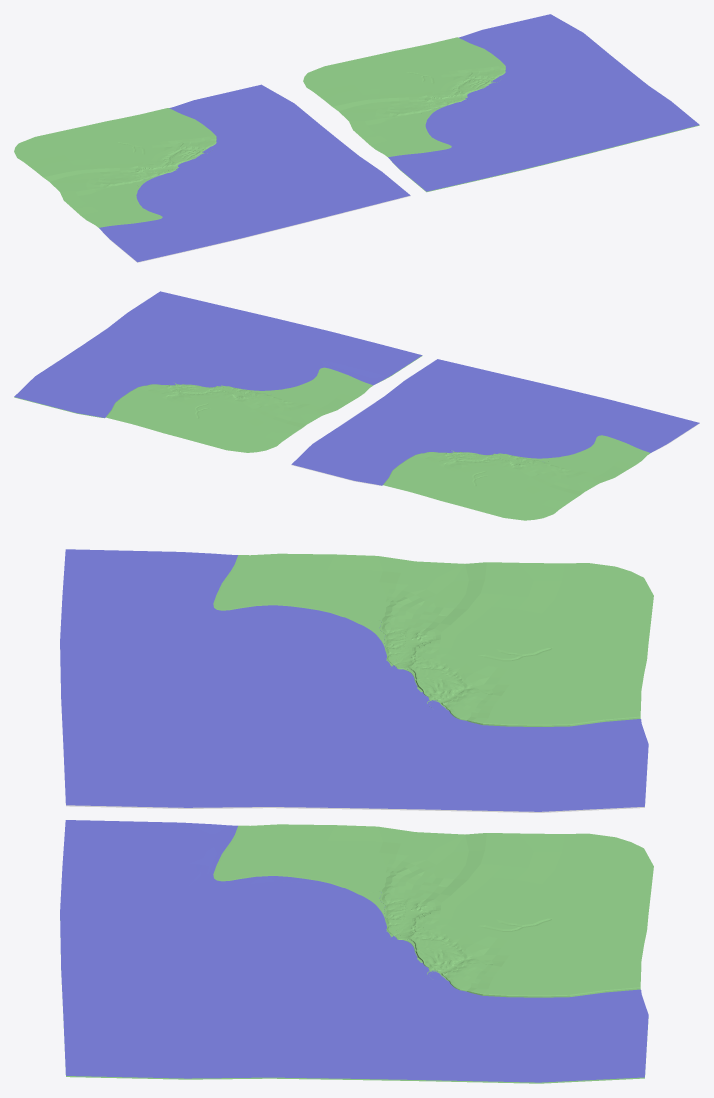
File: Dover.fbx
The picture shows the model from 3 angles, top to bottom: view 1: azimuth 30°, elevation 25°; view 2: azimuth 150°, elevation 25°; view 3: azimuth 270°, elevation 25°; orthographic projection. The views are drawn at different scales.
Parts seen in each view (by area): view 1: Dover old, Dover Water, Dover; view 2: Dover old, Dover Water, Dover; view 3: Dover old, Dover Water, Dover, Dover Under Water.
Boxes of the visible parts, box(x1,y1,x2,y2) form: Dover old: box(303, 14, 699, 192); Dover Water: box(99, 84, 410, 262); Dover: box(14, 108, 216, 227); Dover old: box(14, 291, 422, 452); Dover Water: box(291, 359, 699, 485); Dover: box(383, 435, 650, 520); Dover old: box(60, 820, 653, 1083); Dover Water: box(60, 549, 648, 811); Dover: box(213, 553, 653, 726); Dover Under Water: box(60, 649, 648, 812).
Size of what is drawn, in the model's own units: 13400 by 32.17 by 6307.
